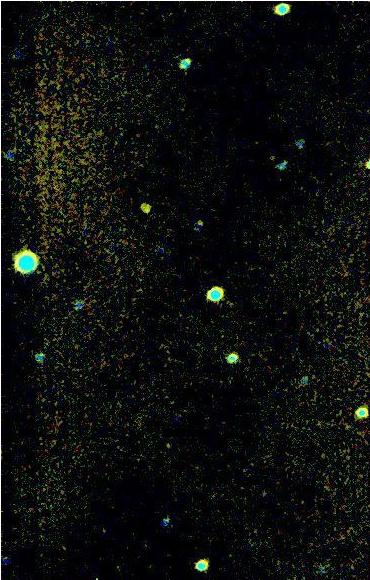star: (124, 191, 154, 221)
